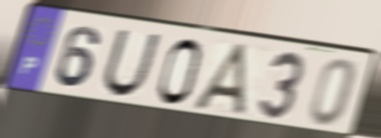0: (306, 56, 359, 128), (155, 36, 204, 107)
3: (256, 49, 307, 122)
6: (55, 25, 101, 91)
A: (190, 41, 252, 119)
U: (100, 27, 164, 99)
